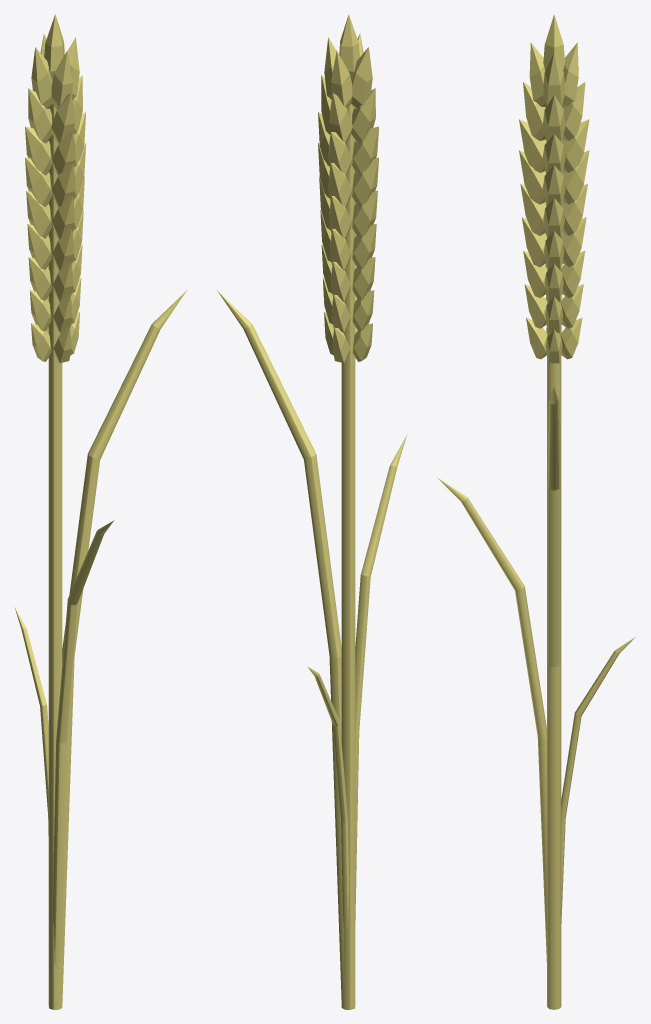
The model's file is Wheat1.fbx.
3 views of the same model, side by side, from view 1: azimuth 30°, elevation 25°; view 2: azimuth 150°, elevation 25°; view 3: azimuth 270°, elevation 25° (orthographic).
Parts seen in each view (by area): view 1: Wheat1; view 2: Wheat1; view 3: Wheat1.
Part boxes in pixels (x1,y1,x2,y2): Wheat1: (14,14,186,1009); Wheat1: (217,14,407,1009); Wheat1: (437,14,635,1009).
Bounding box in the file's own units: 1.05 × 6.13 × 1.12.
